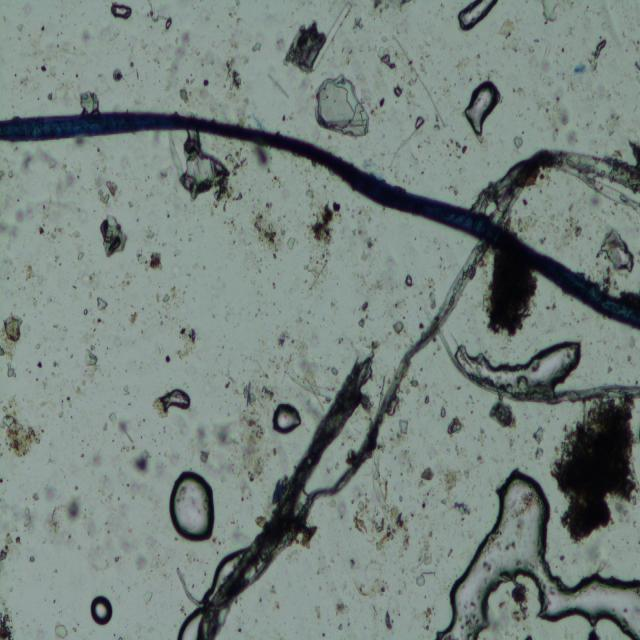Air bubble: (435, 470, 640, 638), (456, 340, 584, 395), (169, 469, 217, 544), (466, 82, 502, 138), (604, 224, 636, 277), (457, 1, 498, 34), (270, 400, 302, 436), (158, 388, 192, 415), (88, 596, 114, 626), (392, 87, 403, 98), (416, 116, 424, 130)
Background material: (547, 395, 640, 534), (91, 486, 159, 575), (165, 132, 235, 218), (353, 464, 411, 561), (228, 365, 272, 483), (284, 4, 354, 78), (487, 248, 537, 334), (301, 196, 343, 287), (315, 73, 370, 138), (514, 200, 584, 251), (7, 193, 80, 240), (102, 414, 154, 475), (534, 78, 580, 146), (0, 393, 44, 461), (14, 149, 82, 190), (248, 202, 294, 261), (419, 467, 474, 510), (164, 19, 196, 88), (28, 42, 66, 96), (412, 522, 441, 590), (94, 214, 130, 262), (45, 493, 91, 528), (71, 341, 101, 394), (150, 276, 181, 319), (350, 572, 393, 599), (170, 318, 198, 356), (266, 320, 301, 350), (536, 40, 562, 79), (488, 399, 519, 431), (134, 243, 164, 276), (0, 531, 22, 572), (508, 578, 528, 622), (402, 378, 432, 407), (222, 56, 245, 90), (0, 594, 17, 640), (375, 42, 397, 76), (369, 0, 418, 15), (390, 400, 408, 436), (77, 88, 101, 115), (418, 594, 436, 630), (0, 313, 26, 337), (253, 146, 275, 174), (591, 35, 609, 69), (96, 177, 122, 200), (446, 413, 469, 438), (177, 78, 197, 104), (444, 138, 468, 159), (539, 0, 560, 23), (72, 21, 96, 41), (426, 272, 437, 315), (109, 4, 135, 22), (88, 295, 112, 314), (534, 425, 546, 462), (568, 61, 590, 80), (380, 608, 396, 632), (352, 9, 368, 33), (499, 16, 516, 37), (358, 301, 370, 330), (392, 318, 408, 336), (334, 596, 349, 615), (511, 135, 524, 155), (53, 622, 68, 639), (247, 35, 260, 54), (228, 30, 238, 51), (112, 68, 124, 84), (162, 18, 173, 33), (129, 307, 138, 324), (406, 267, 412, 291), (37, 357, 43, 372), (633, 58, 640, 69), (202, 82, 212, 88)
Cellulose filter fibre: (196, 357, 376, 636), (315, 242, 485, 504), (435, 330, 640, 413), (470, 153, 640, 221), (392, 35, 450, 129), (388, 128, 418, 171)
Cotton: (0, 109, 640, 332)
